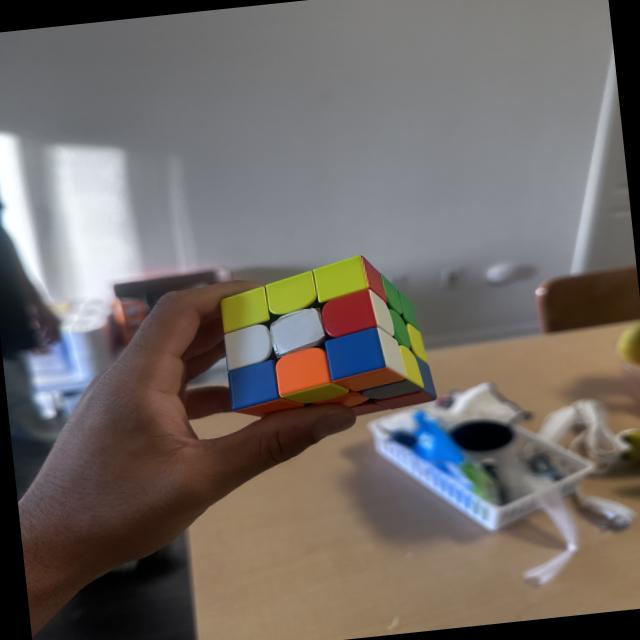sticker: (326, 330, 384, 378), (277, 348, 329, 395), (322, 291, 376, 336), (314, 256, 368, 301), (272, 309, 324, 355), (230, 360, 278, 409), (221, 287, 267, 331), (226, 323, 269, 369), (266, 273, 313, 314)
